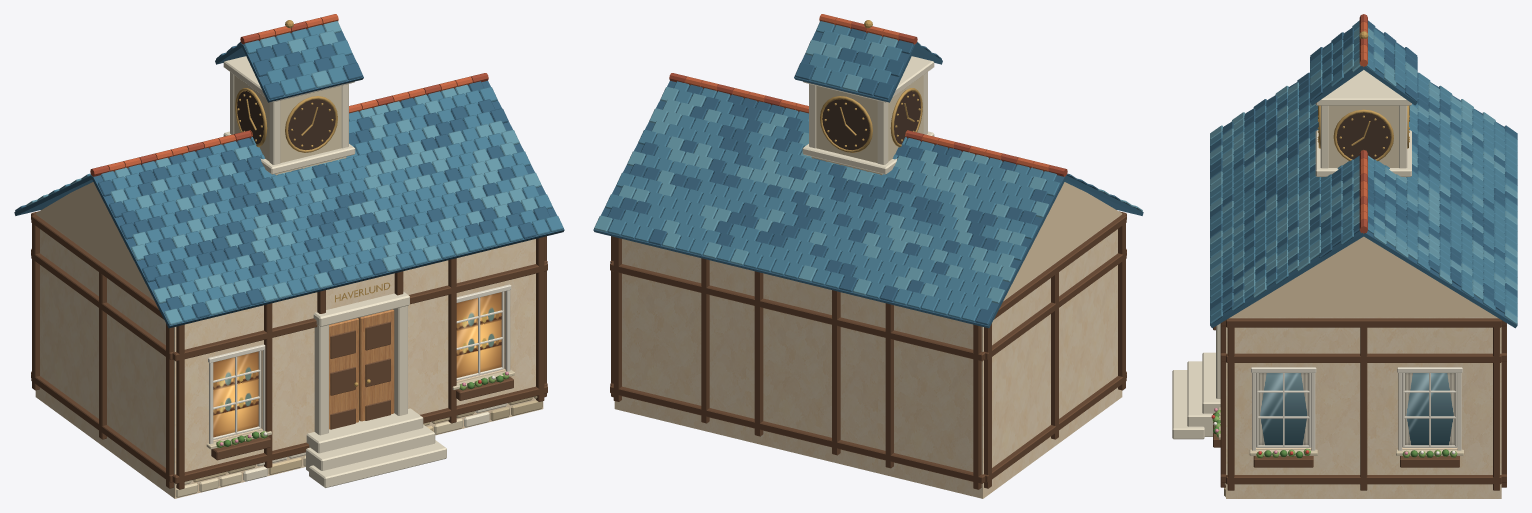
3 renders of one model, left to right at view 1: azimuth 30°, elevation 25°; view 2: azimuth 150°, elevation 25°; view 3: azimuth 270°, elevation 25°, orthographic.
Visible parts, largest first — view 1: square_plaster, loft_roof_blue, loft_roof_blue_dark, square_timber, loft_roof_blue_light, square_limestone_pale, square_window_shop, square_wood_dark, square_limestone, square_oak, square_white, square_ink (+4 smaller); view 2: square_plaster, loft_roof_blue, square_timber, loft_roof_blue_dark, loft_roof_blue_light, square_limestone_pale, square_ink, square_limestone, square_terracotta, square_brass, square_terracotta_dark; view 3: square_plaster, loft_roof_blue, loft_roof_blue_dark, loft_roof_blue_light, square_timber, square_limestone_pale, square_window_pane, square_white, square_limestone, square_ink, square_wood_dark, square_brass (+3 smaller).
Part boxes in pixels (left/top/right/bottom): square_plaster: left=35, top=182, right=543, bottom=498; loft_roof_blue: left=48, top=25, right=563, bottom=321; loft_roof_blue_dark: left=14, top=25, right=564, bottom=328; square_timber: left=31, top=211, right=547, bottom=489; loft_roof_blue_light: left=26, top=21, right=541, bottom=324; square_limestone_pale: left=223, top=56, right=507, bottom=487; square_window_shop: left=213, top=292, right=501, bottom=437; square_wood_dark: left=211, top=321, right=513, bottom=460; square_limestone: left=175, top=75, right=514, bottom=497; square_oak: left=329, top=309, right=394, bottom=429; square_white: left=208, top=284, right=511, bottom=444; square_ink: left=237, top=91, right=335, bottom=150; square_plaster: left=614, top=182, right=1122, bottom=498; loft_roof_blue: left=605, top=21, right=1059, bottom=321; square_timber: left=610, top=211, right=1126, bottom=489; loft_roof_blue_dark: left=593, top=25, right=1143, bottom=328; loft_roof_blue_light: left=594, top=34, right=1142, bottom=303; square_limestone_pale: left=802, top=56, right=934, bottom=174; square_ink: left=822, top=91, right=920, bottom=150; square_limestone: left=811, top=75, right=923, bottom=175; square_terracotta: left=685, top=14, right=1050, bottom=171; square_brass: left=820, top=20, right=922, bottom=152; square_terracotta_dark: left=669, top=21, right=1067, bottom=176; square_plaster: left=1226, top=236, right=1501, bottom=498; loft_roof_blue: left=1210, top=20, right=1517, bottom=324; loft_roof_blue_dark: left=1210, top=20, right=1517, bottom=328; loft_roof_blue_light: left=1210, top=28, right=1517, bottom=324; square_timber: left=1220, top=318, right=1506, bottom=490; square_limestone_pale: left=1172, top=70, right=1411, bottom=439; square_window_pane: left=1258, top=373, right=1454, bottom=445; square_white: left=1251, top=367, right=1462, bottom=450; square_limestone: left=1218, top=105, right=1463, bottom=455; square_ink: left=1336, top=112, right=1390, bottom=159; square_wood_dark: left=1213, top=326, right=1459, bottom=467; square_brass: left=1317, top=31, right=1409, bottom=161.
Bounding box in the file's own units: 9 × 8.34 × 6.9.
Materials: 23 (4 with a texture image).
